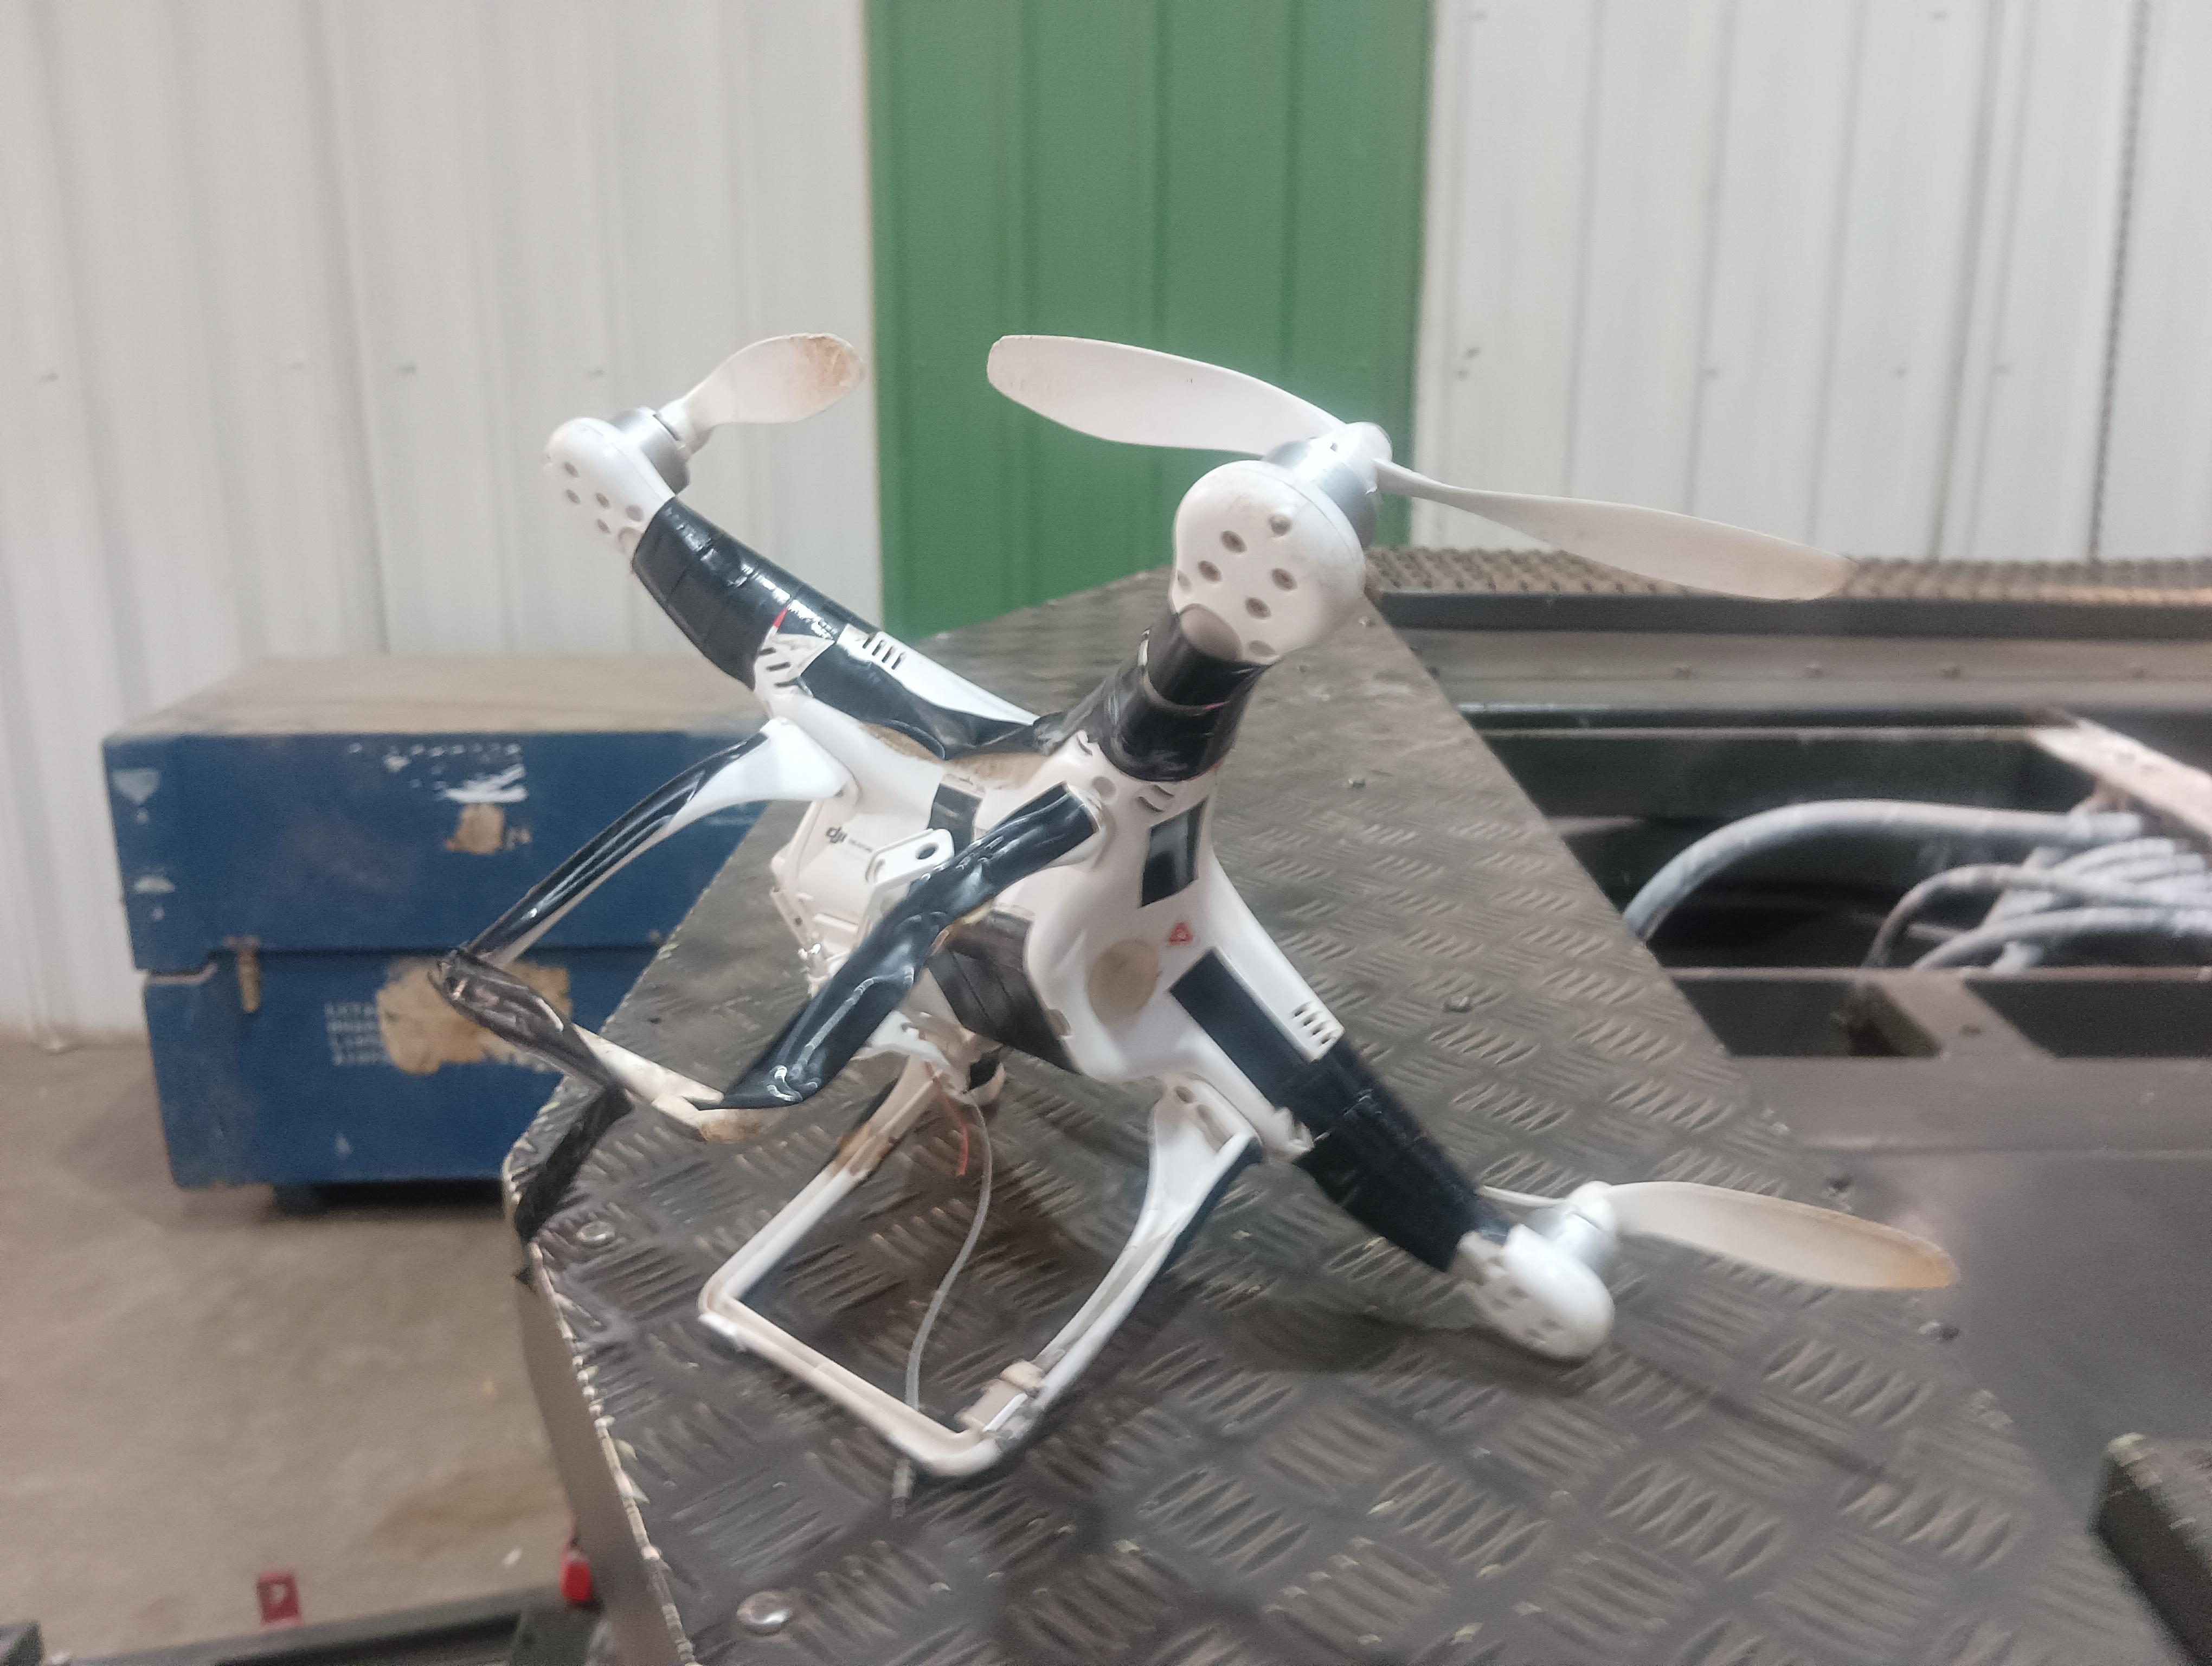drone: (358, 289, 2011, 1480)
